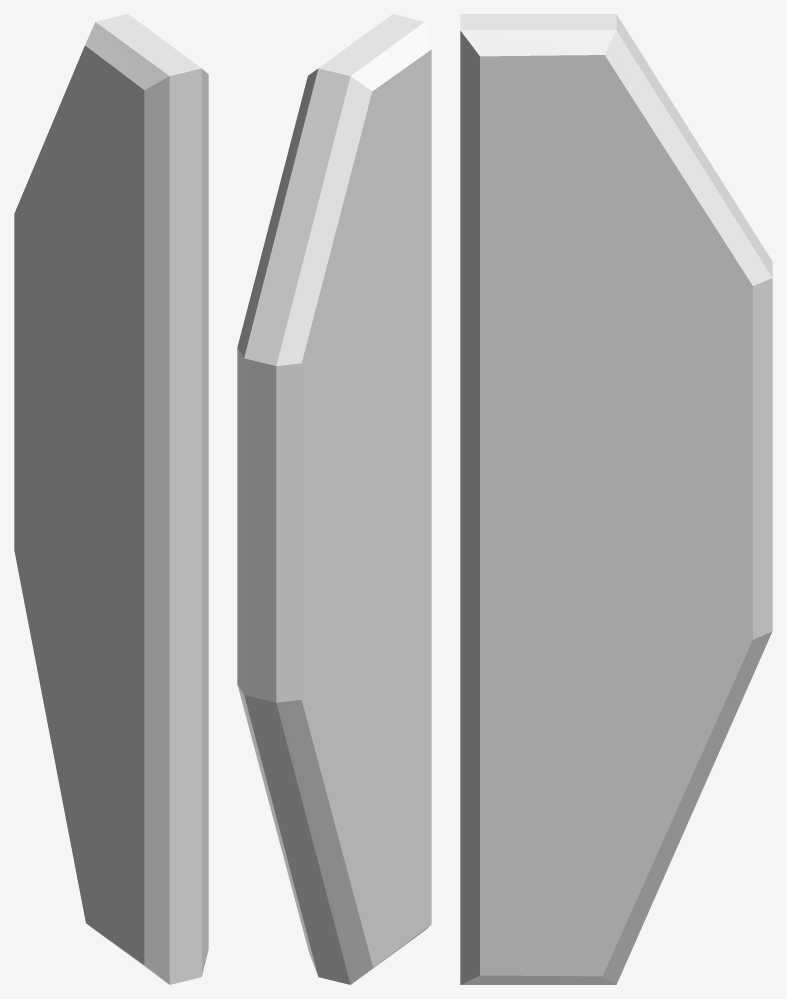
The model's file is Thresher-Room-Capacitor.obj.
3 renders of one model, left to right at view 1: azimuth 30°, elevation 25°; view 2: azimuth 150°, elevation 25°; view 3: azimuth 270°, elevation 25°, orthographic. The views are drawn at different scales.
Visible parts, largest first — view 1: Thresher-Room-Capacitor; view 2: Thresher-Room-Capacitor; view 3: Thresher-Room-Capacitor.
Boxes of the visible parts, x1,y1,x2,y2 form: Thresher-Room-Capacitor: (14,14,208,984); Thresher-Room-Capacitor: (237,14,431,984); Thresher-Room-Capacitor: (460,14,772,984).
Bounding box in the file's own units: 2 × 27 × 8.
